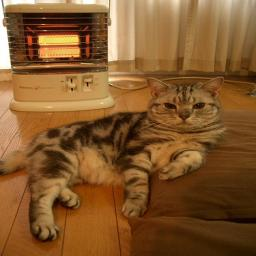catnose: (177, 112, 193, 122)
